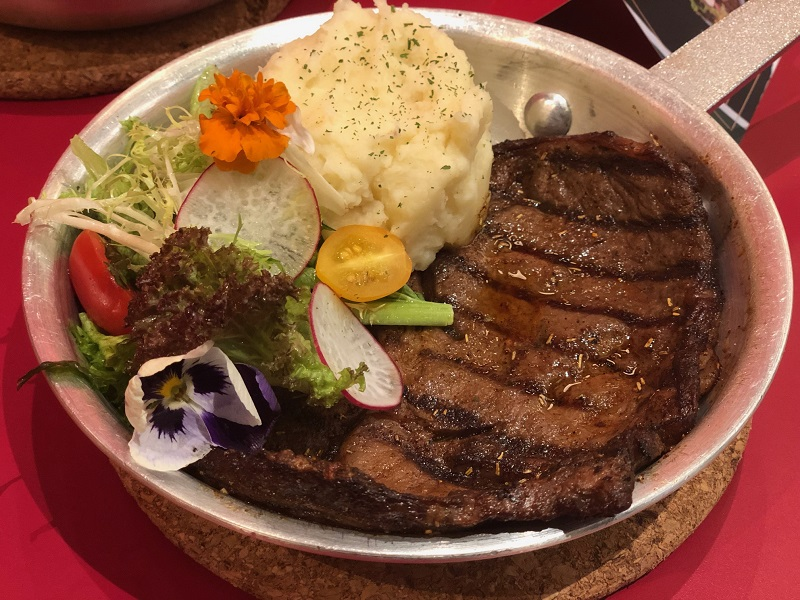steak: (1, 7, 800, 589)
